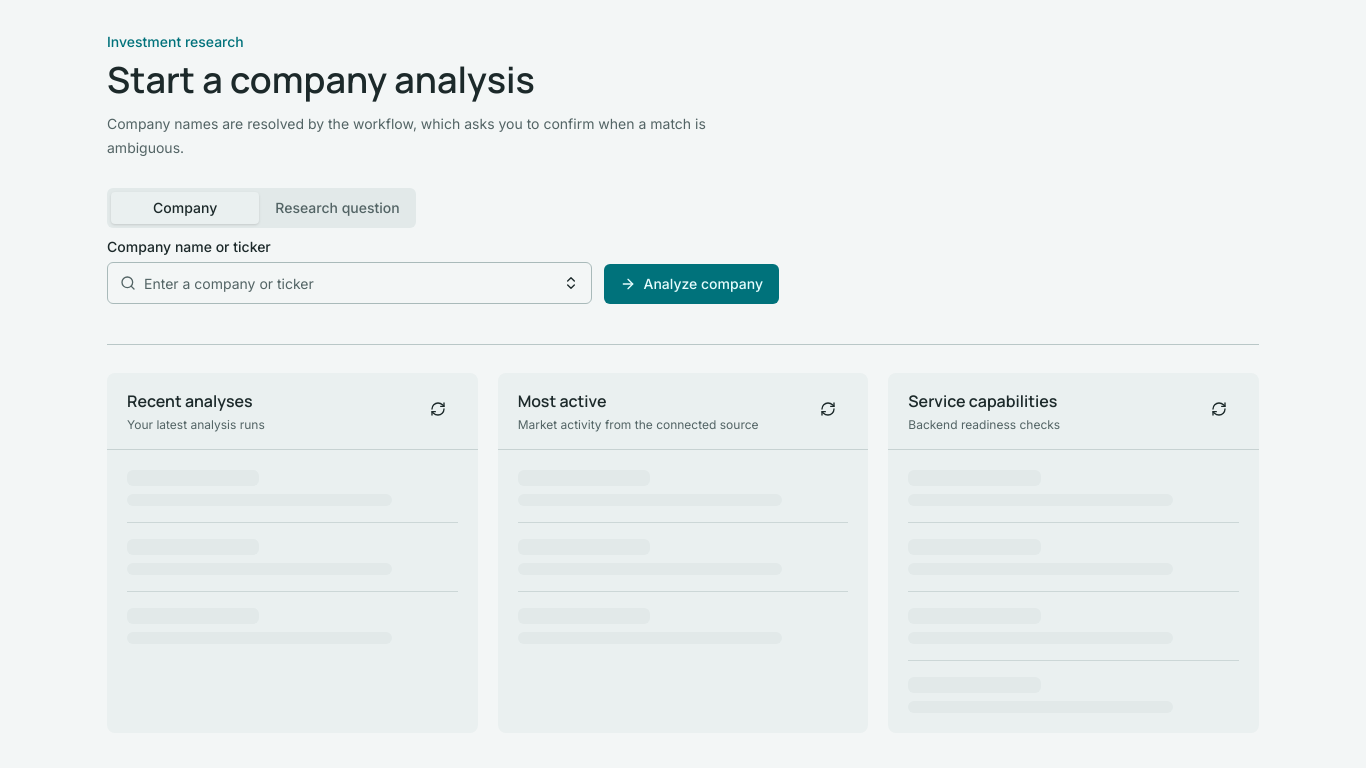
Scenario: home dashboard › opens the analysis workspace for a company name and shows pending feedback
Type "  Apple Inc. " into the field labelled "Company name or ticker".
click(345, 283); type("  Apple Inc. ")  # box [140, 263, 550, 303]
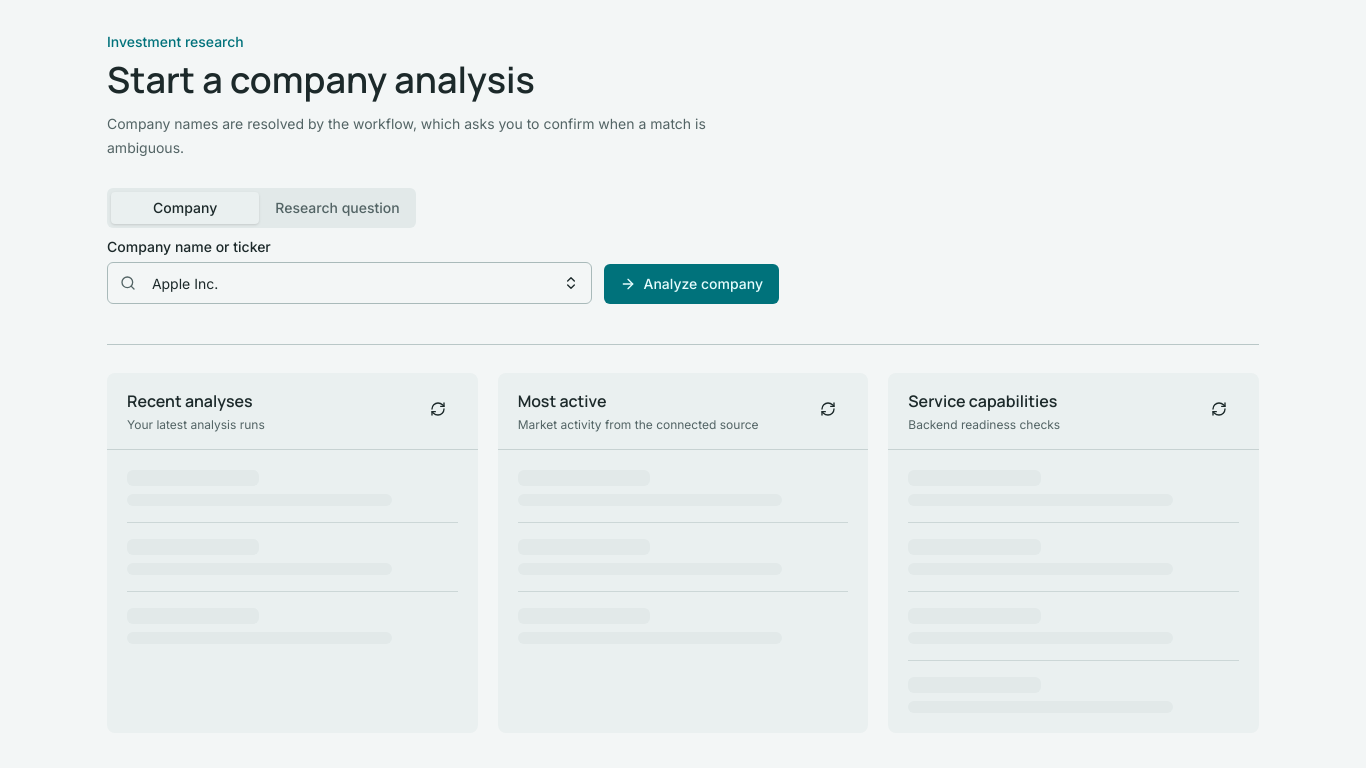
Submit the form labelled "Company name or ticker", box [107, 188, 779, 304]
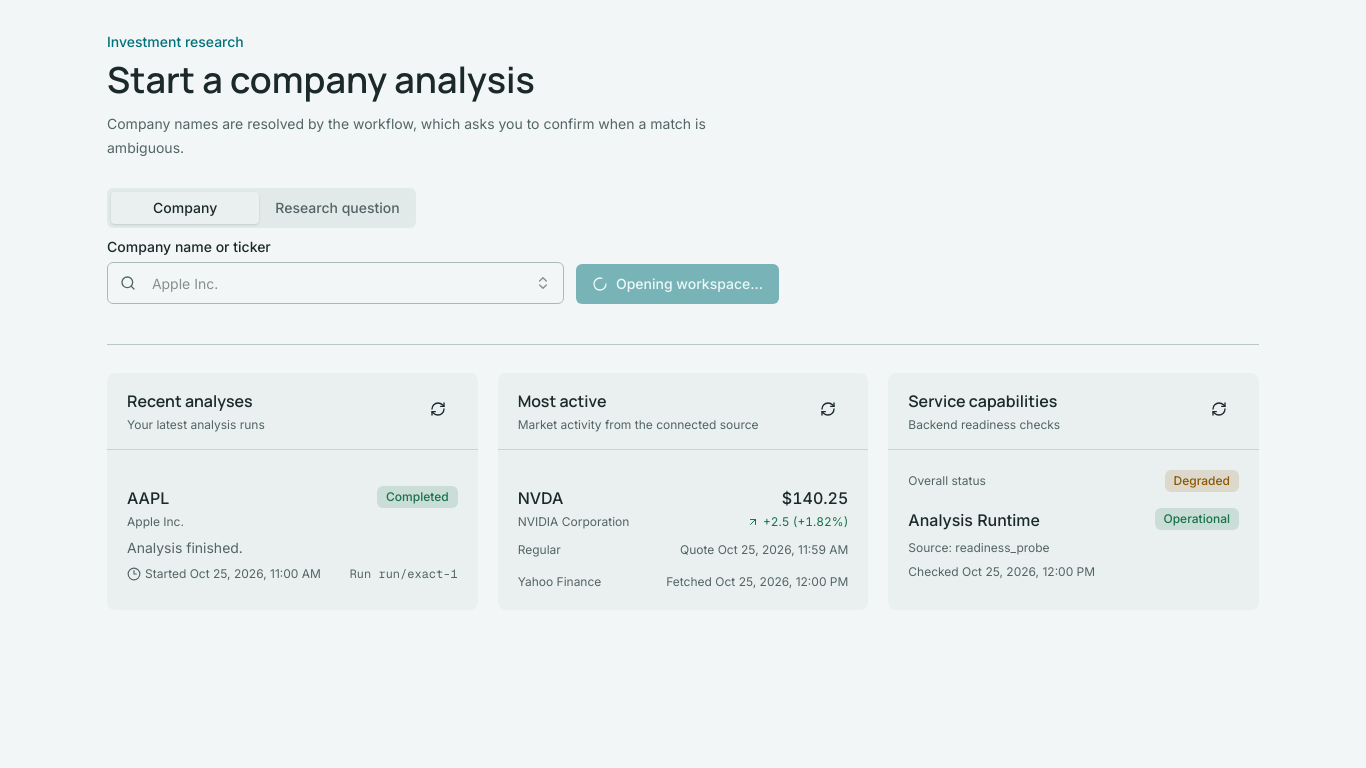
Expected: the button "Opening workspace..." is disabled, [576, 264, 779, 304]
